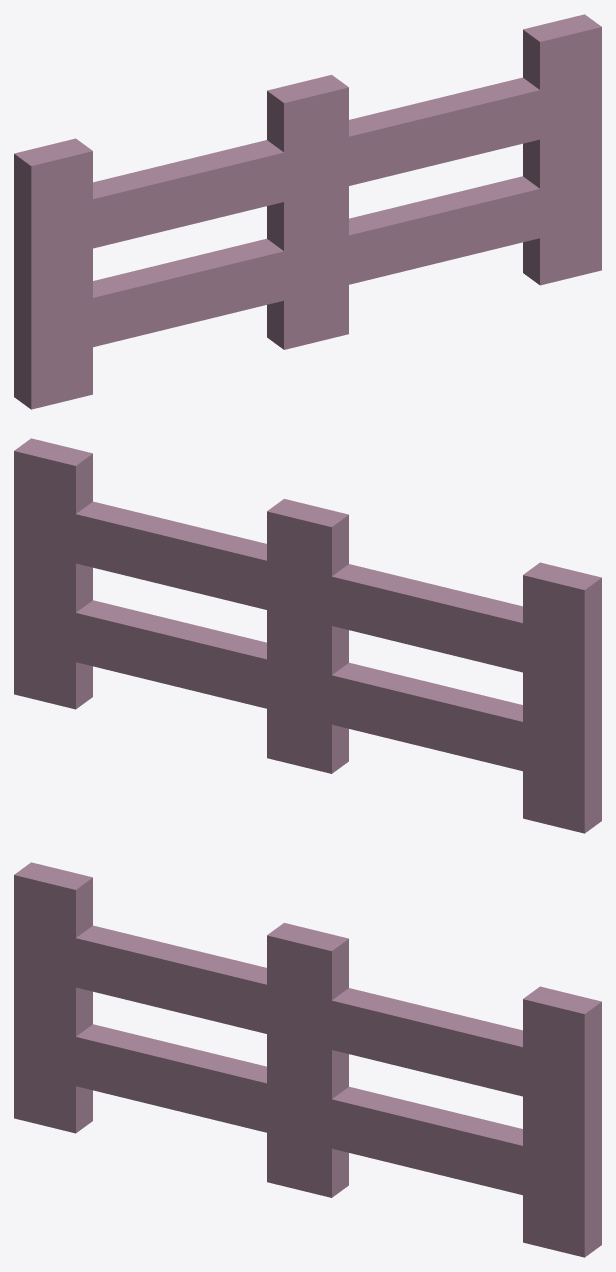
File: Fence.fbx
3 renders of one model, top to bottom at view 1: azimuth 30°, elevation 25°; view 2: azimuth 150°, elevation 25°; view 3: azimuth 330°, elevation 25°, orthographic.
Visible parts, largest first — view 1: Cube; view 2: Cube; view 3: Cube.
Part boxes in pixels (left/top/right/bottom): Cube: left=14, top=14, right=601, bottom=409; Cube: left=14, top=438, right=601, bottom=833; Cube: left=14, top=862, right=601, bottom=1257.
Size of the model in its own units: 484 by 200 by 25.35.
